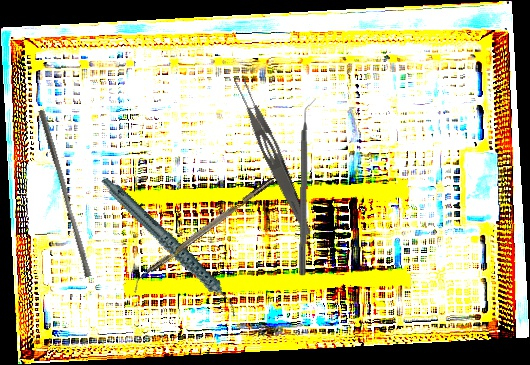Chopper: (126, 177, 280, 294), (298, 97, 319, 277)
Dressing Forceps: (229, 73, 319, 238)
Handpiece: (100, 155, 241, 339)
Pusher: (31, 109, 98, 278)
